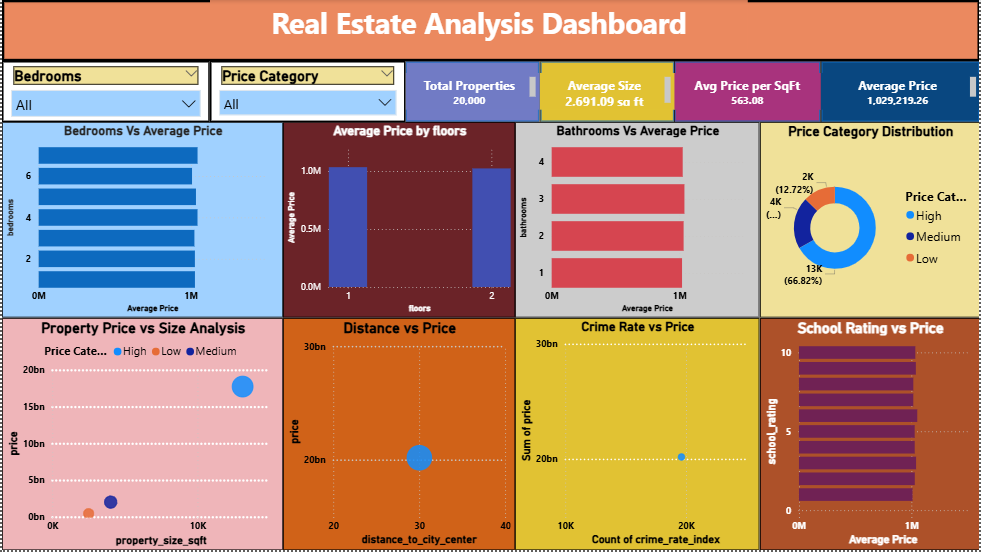

What the dashboard file says about the page in this screenshot:
{"tool":"powerbi","page":{"name":"Dashboard","canvas":[1280,720],"ordinal":3},"visuals":[{"type":"shape","box":[0,0,1280,80],"z":0},{"type":"shape","box":[528,80,176,80],"z":1000},{"type":"shape","box":[880,80,192,80],"z":2000},{"type":"shape","box":[704,80,176,80],"z":3000},{"type":"shape","box":[1072,80,208,80],"z":4000},{"type":"textbox","box":[272,0,704,64],"z":5000},{"type":"textbox","box":[528,96,176,48],"z":6000},{"type":"textbox","box":[1072,96,208,48],"z":7000},{"type":"textbox","box":[880,96,192,48],"z":8000},{"type":"textbox","box":[704,96,176,48],"z":9000},{"type":"barChart","title":"Bedrooms Vs Average Price","fields":{"Category":["RealEstate.bedrooms"],"Y":["RealEstate.Average Price"]},"box":[0,160,368,256],"z":10000},{"type":"barChart","title":"Bathrooms Vs Average Price","fields":{"Category":["RealEstate.bathrooms"],"Y":["RealEstate.Average Price"]},"box":[672,160,320,256],"z":11000},{"type":"columnChart","fields":{"Category":["RealEstate.floors"],"Y":["RealEstate.Average Price"]},"box":[368,160,304,256],"z":12000},{"type":"donutChart","title":"Price Category Distribution","fields":{"Category":["RealEstate.Price Category"],"Y":["RealEstate.Total Properties"]},"box":[992,160,288,256],"z":13000},{"type":"slicer","fields":{"Values":["RealEstate.bedrooms"]},"box":[0,80,272,80],"z":15000},{"type":"slicer","fields":{"Values":["RealEstate.Price Category"]},"box":[272,80,256,80],"z":16000},{"type":"scatterChart","title":"Property Price vs Size Analysis","fields":{"X":["CountNonNull(RealEstate.property_size_sqft)"],"Y":["Sum(RealEstate.price)"],"Size":["CountNonNull(RealEstate.bathrooms)"],"Series":["RealEstate.Price Category"]},"box":[0,416,368,304],"z":16001},{"type":"scatterChart","title":"Distance vs Price","fields":{"X":["Max(RealEstate.distance_to_city_center)"],"Y":["Sum(RealEstate.price)"]},"box":[368,416,304,304],"z":16002},{"type":"scatterChart","title":"Crime Rate vs Price","fields":{"X":["CountNonNull(RealEstate.crime_rate_index)"],"Y":["Sum(RealEstate.price)"]},"box":[672,416,320,304],"z":16003},{"type":"barChart","title":"School Rating vs Price","fields":{"Category":["RealEstate.school_rating"],"Y":["RealEstate.Average Price"]},"box":[992,416,288,304],"z":16004}]}

Visuals, with their boxes in screenshot pixels (x1, y1, x2, y2), scaled from the page's 1280x720 canvas onto the 981x554 screenshot:
shape: (0,0,980,62)
shape: (405,62,540,123)
shape: (674,62,822,123)
shape: (540,62,674,123)
shape: (822,62,980,123)
textbox: (208,0,748,49)
textbox: (405,74,540,111)
textbox: (822,74,980,111)
textbox: (674,74,822,111)
textbox: (540,74,674,111)
"Bedrooms Vs Average Price" barChart: (0,123,282,320)
"Bathrooms Vs Average Price" barChart: (515,123,760,320)
columnChart - RealEstate.floors x RealEstate.Average Price: (282,123,515,320)
"Price Category Distribution" donutChart: (760,123,980,320)
slicer - RealEstate.bedrooms: (0,62,208,123)
slicer - RealEstate.Price Category: (208,62,405,123)
"Property Price vs Size Analysis" scatterChart: (0,320,282,553)
"Distance vs Price" scatterChart: (282,320,515,553)
"Crime Rate vs Price" scatterChart: (515,320,760,553)
"School Rating vs Price" barChart: (760,320,980,553)
